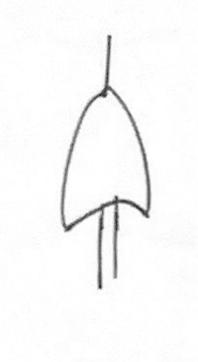OR: (41, 71, 177, 236)
